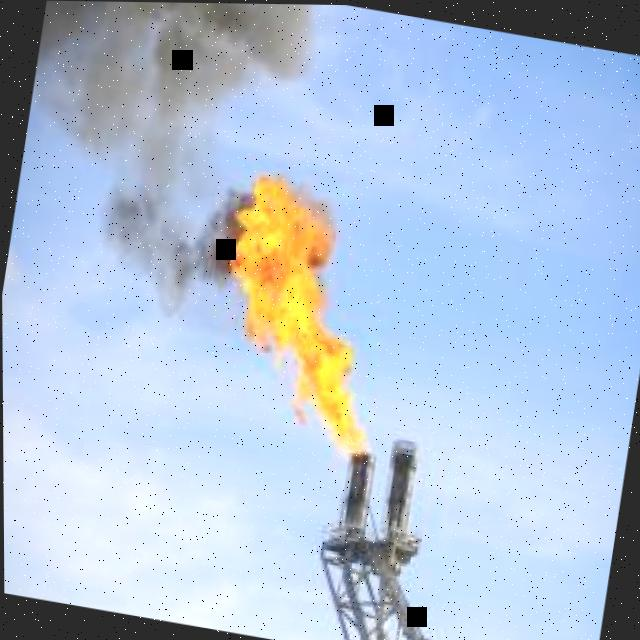fire: (226, 174, 372, 456)
smoke: (33, 1, 322, 322)
